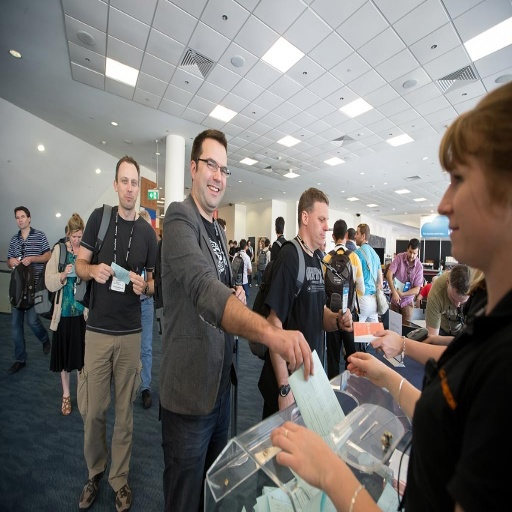hand: (270, 418, 337, 489), (259, 327, 320, 383), (345, 347, 390, 387), (368, 326, 403, 356), (92, 262, 115, 286), (128, 267, 147, 296), (274, 387, 295, 411), (337, 308, 353, 333), (229, 284, 247, 306), (418, 332, 432, 346), (9, 255, 21, 269), (391, 290, 400, 308), (65, 263, 74, 278), (21, 255, 32, 267), (416, 294, 424, 308), (392, 287, 402, 296)
